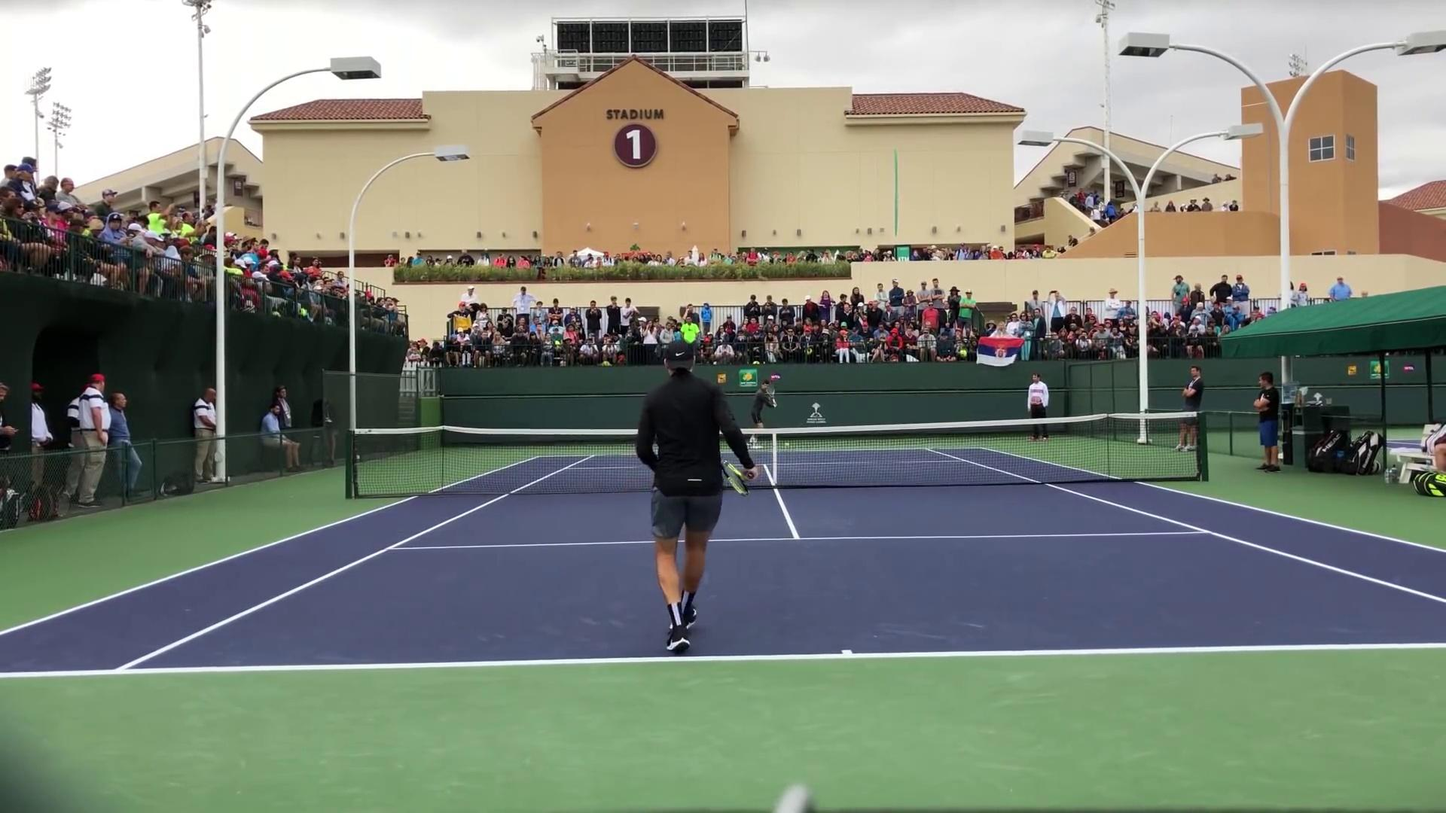ball: (782, 441, 791, 447), (551, 475, 554, 478)
